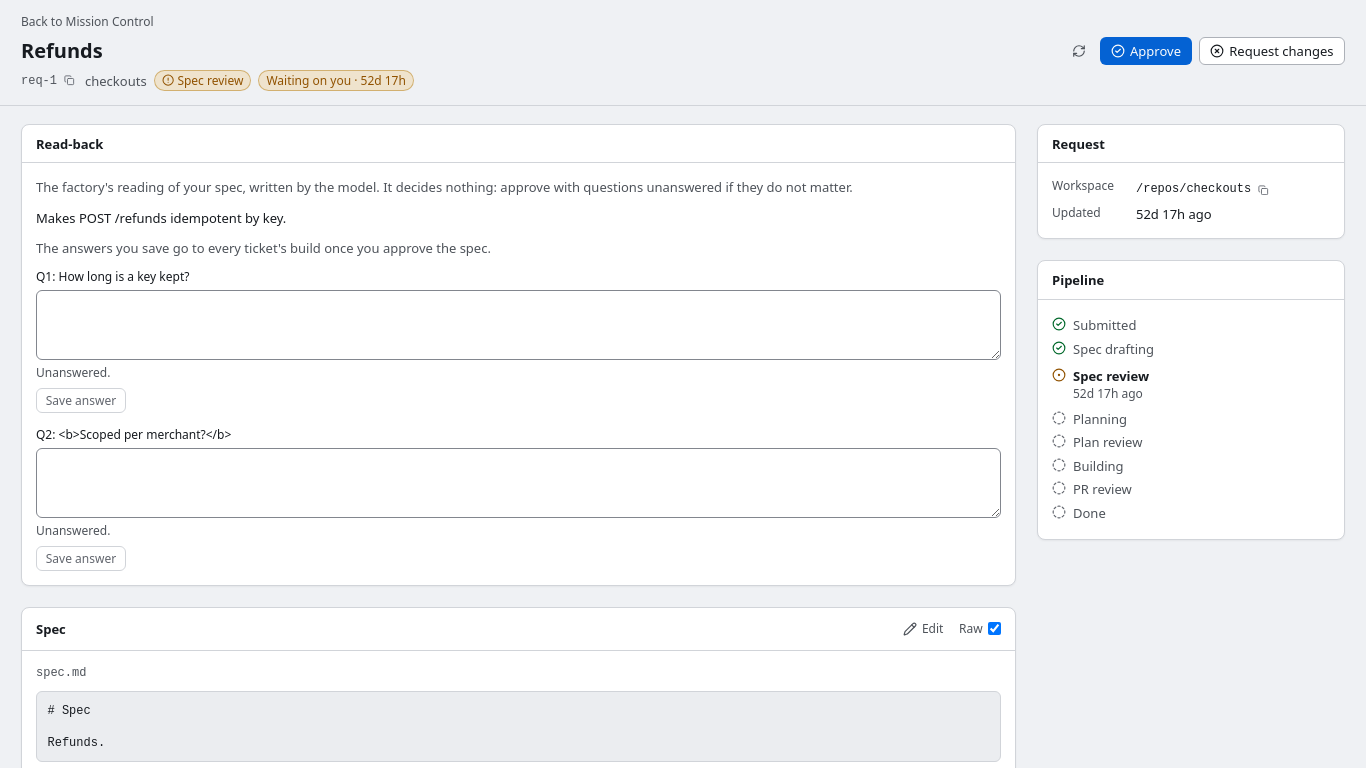
Scenario: an answer box with no unsaved text starts over when its stored answer changes underneath it
Type "24 hours." into the text box named "Answer to Q1" at [518, 325], box [36, 290, 1001, 360]
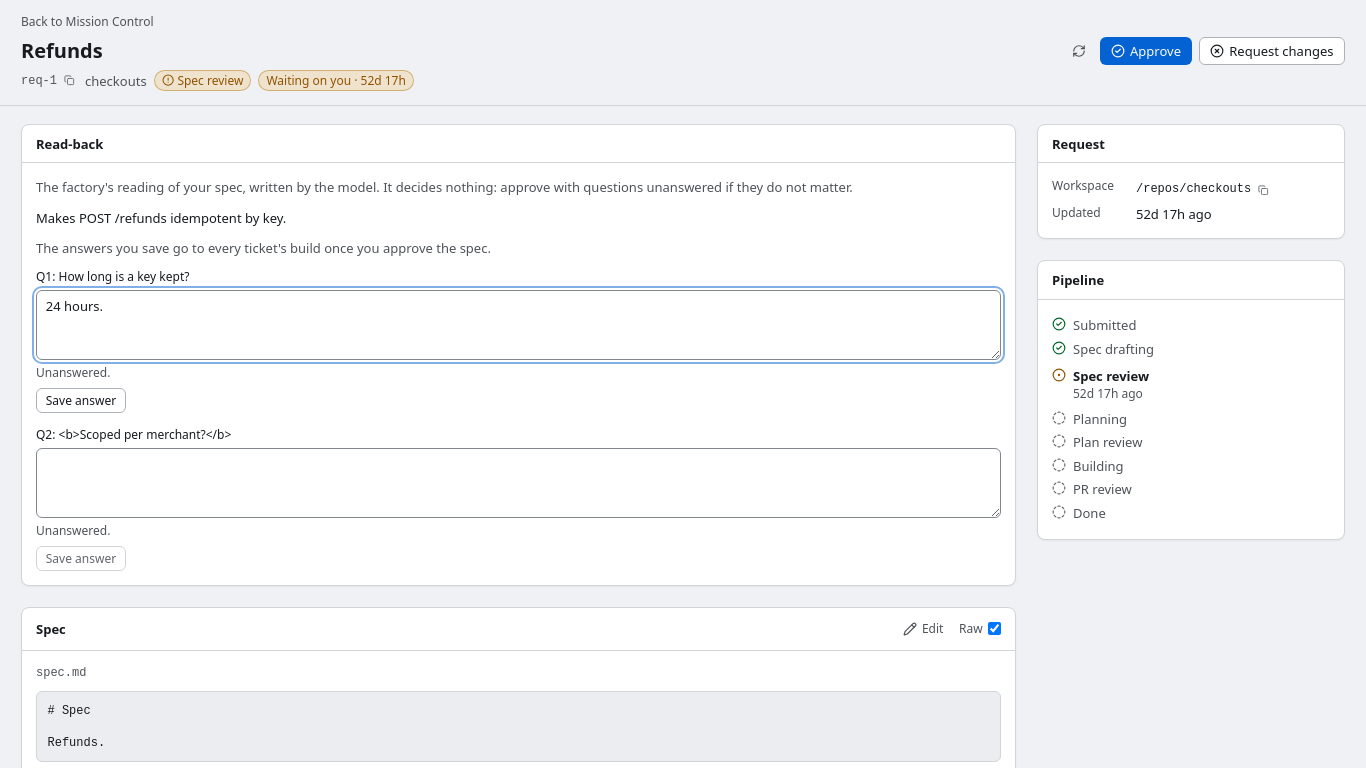
Click the button "Save answer" below "Q1" at [81, 401], box [36, 388, 126, 413]
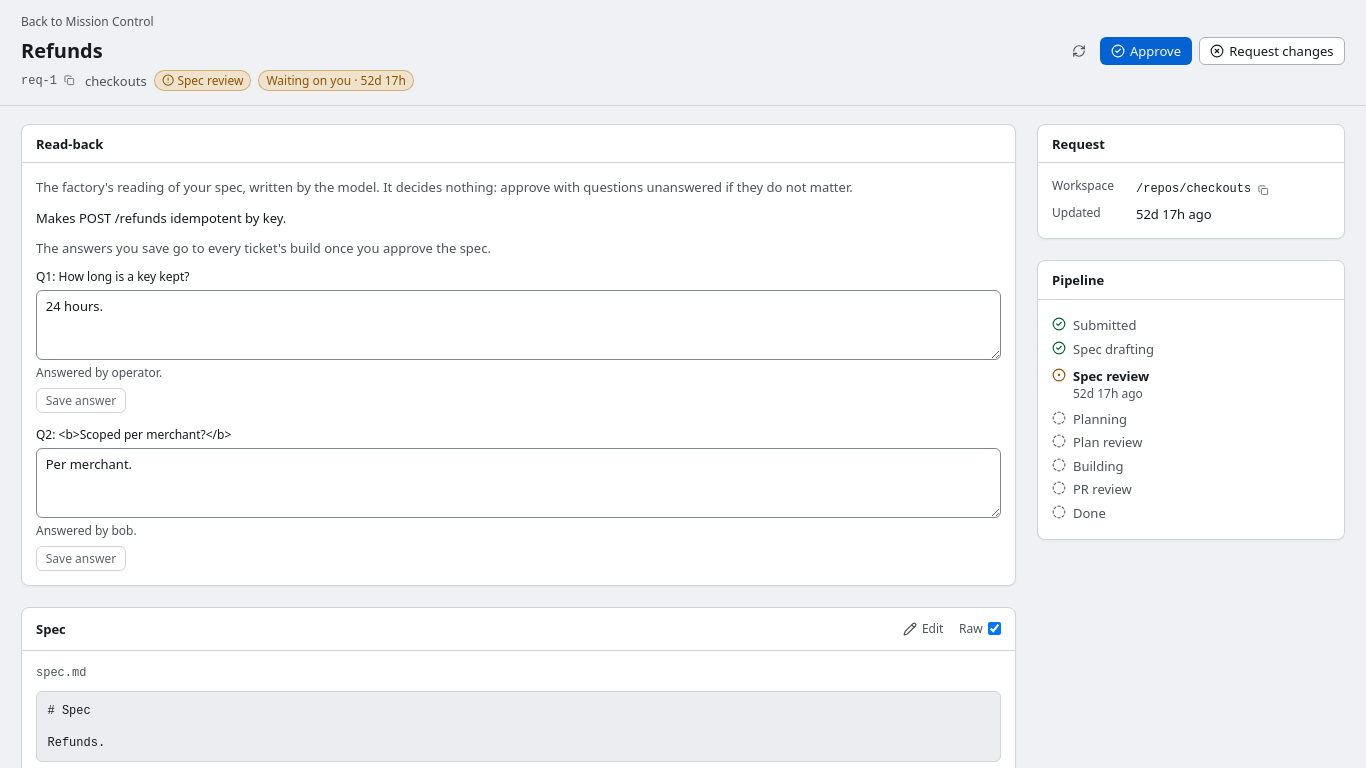
Now the text box named "Answer to Q2" holds "Per merchant.", box [36, 448, 1001, 518]
Now the text "Answered by bob." is shown, box [36, 522, 137, 539]
